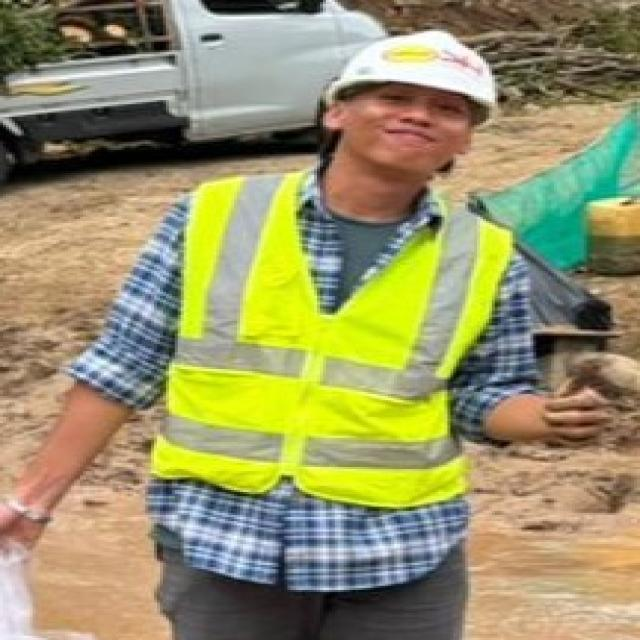safetyhelmet: (318, 23, 500, 168)
